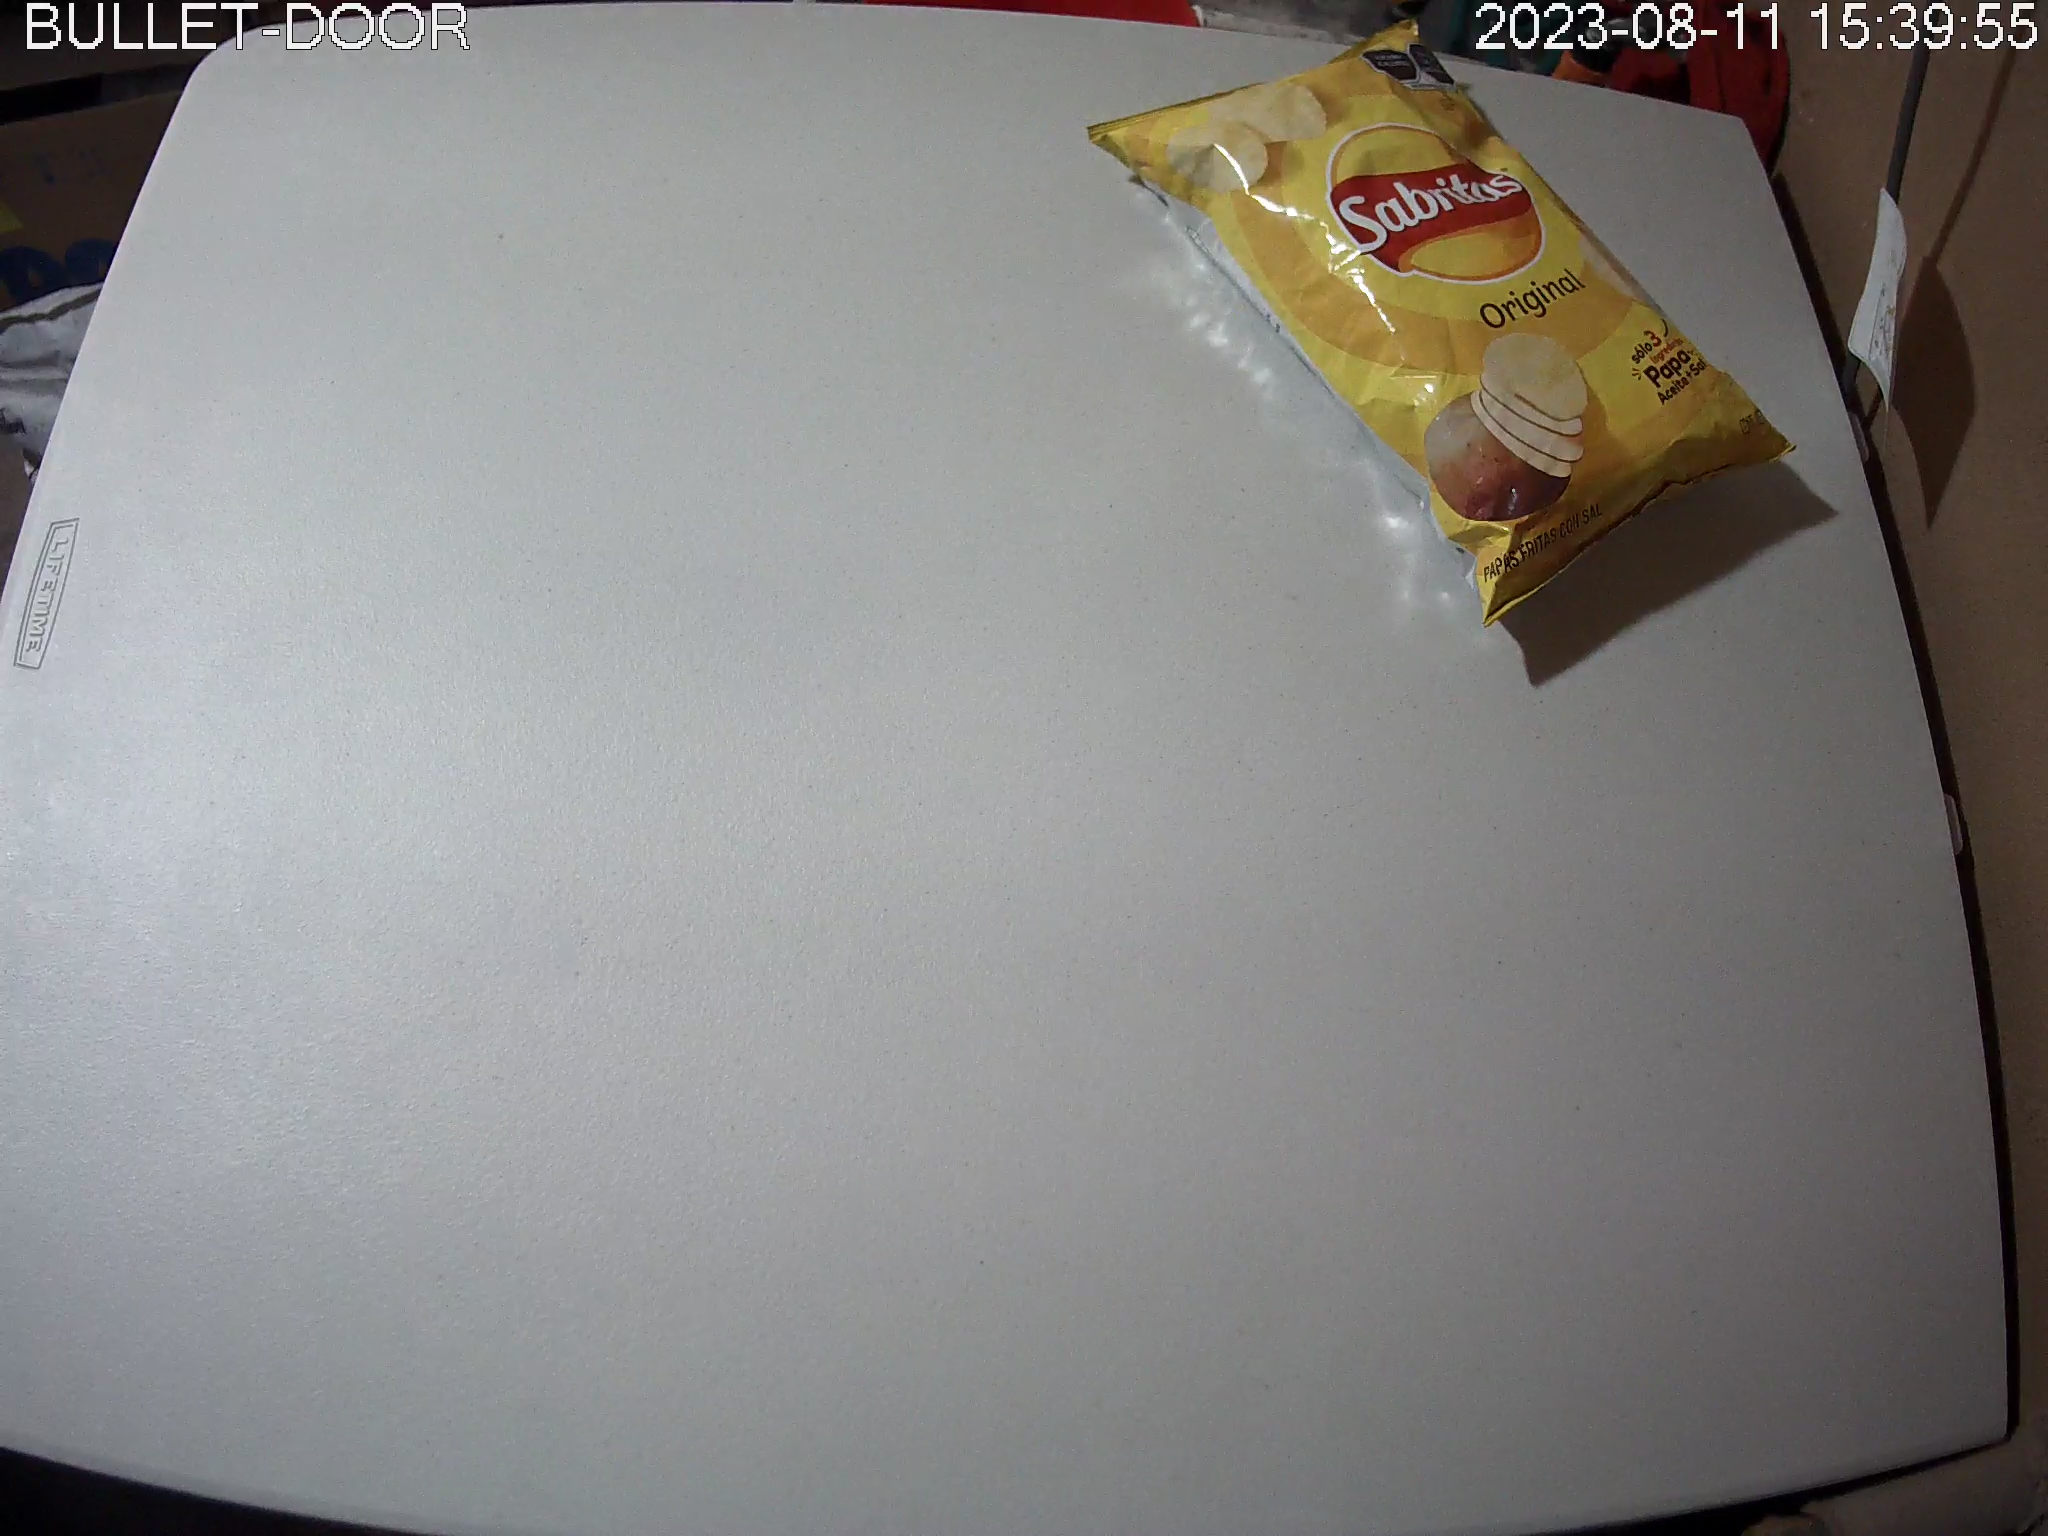Sabritas_160_F: (1085, 23, 1800, 629)
